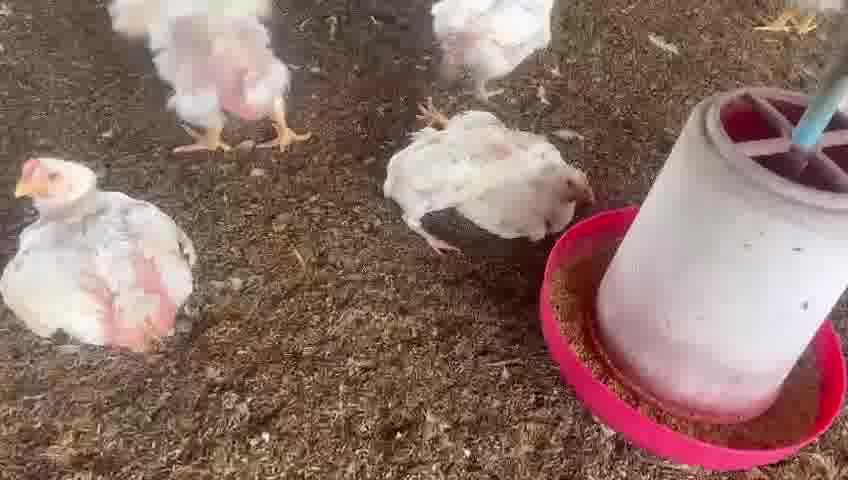AbNormal: (3, 157, 193, 349), (387, 97, 596, 254)
Normal: (106, 4, 313, 146), (430, 0, 555, 98)
